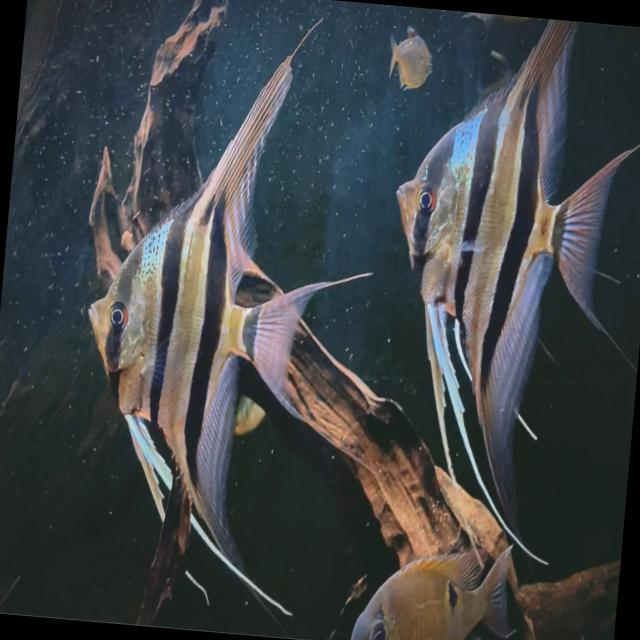AngelFish: (61, 19, 386, 640), (358, 6, 640, 597)
